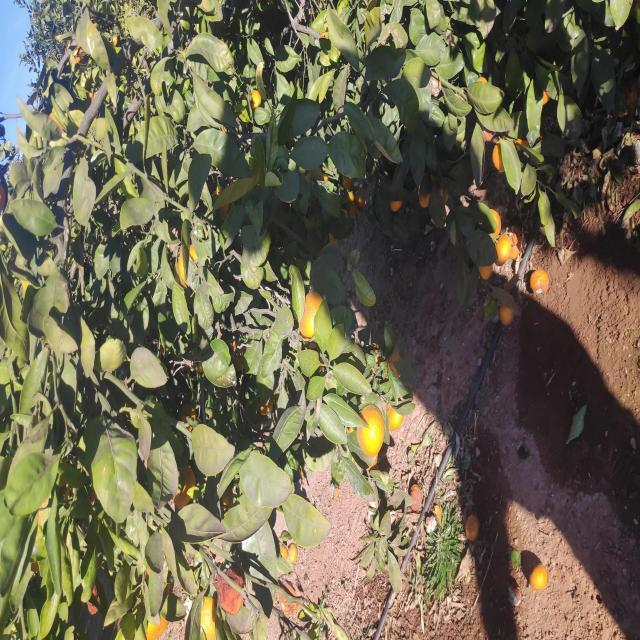Jeruk Sudah Matang: (112, 37, 172, 70), (182, 356, 236, 384), (0, 196, 49, 222), (300, 300, 350, 323), (132, 174, 174, 196), (356, 178, 396, 198), (0, 143, 28, 169), (206, 386, 239, 403), (258, 384, 290, 400), (467, 492, 502, 506), (574, 64, 600, 82), (404, 489, 432, 502), (210, 181, 234, 196), (125, 222, 154, 234), (432, 418, 456, 430), (361, 478, 378, 493), (76, 288, 98, 298), (421, 348, 448, 356), (530, 251, 550, 261), (437, 438, 453, 450), (429, 389, 442, 403), (430, 355, 448, 365), (534, 542, 552, 551), (492, 517, 502, 532), (450, 342, 466, 351), (80, 280, 94, 288), (556, 476, 564, 489), (398, 328, 408, 334)
